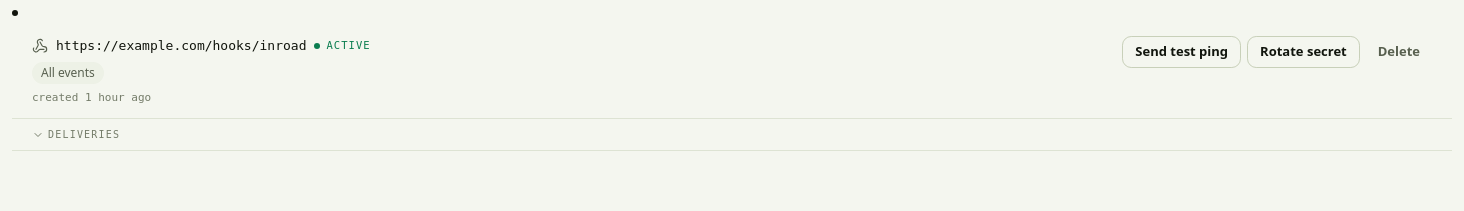
the delivery log is hidden until asked for
expect the text "no deliveries yet" is not shown: met
Step 1. Click the button "Deliveries" → (84, 134), box [12,118,1452,150]
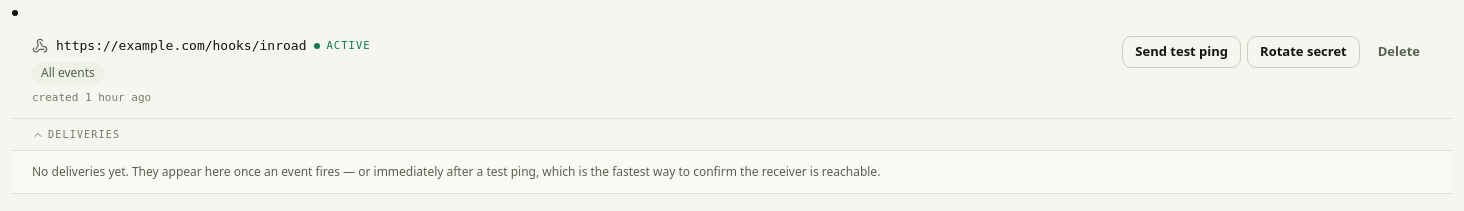
expect the text "No deliveries yet" is shown: met, box [32,163,880,180]
